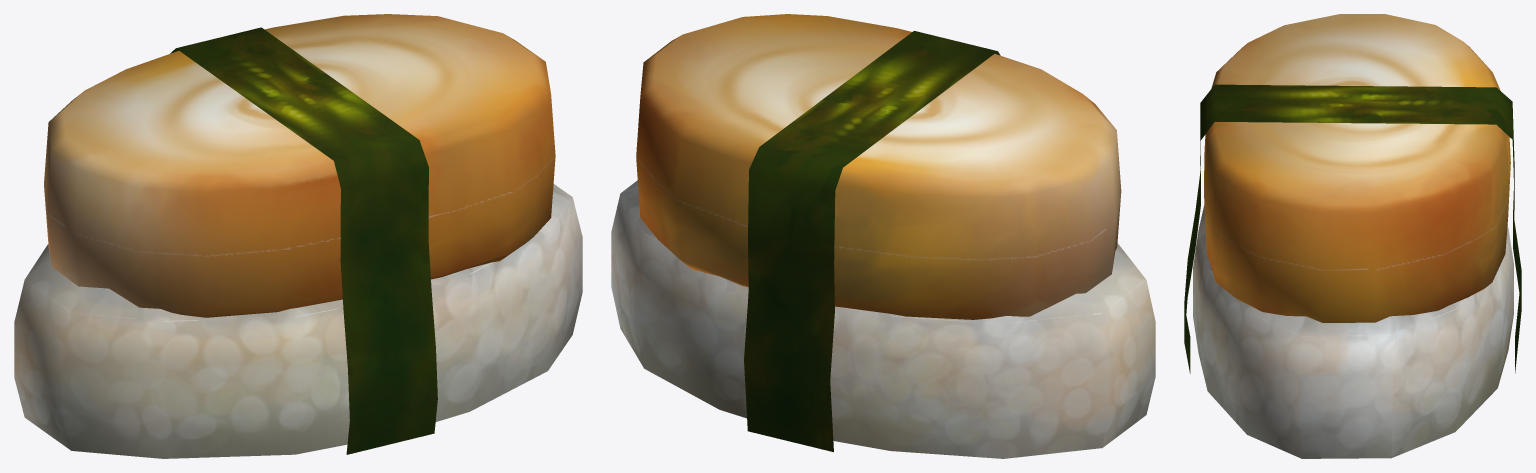
File: sushi03.obj
3 renders of one model, left to right at view 1: azimuth 30°, elevation 25°; view 2: azimuth 150°, elevation 25°; view 3: azimuth 270°, elevation 25°, orthographic. The views are drawn at different scales.
Visible parts, largest first — view 1: Mesh; view 2: Mesh; view 3: Mesh.
Boxes of the visible parts, x1,y1,x2,y2 form: Mesh: [14, 14, 582, 458]; Mesh: [611, 14, 1155, 458]; Mesh: [1184, 14, 1521, 458].
Bounding box in the file's own units: 3.55 × 1.89 × 2.27.
Materials: 1 (1 with a texture image).
